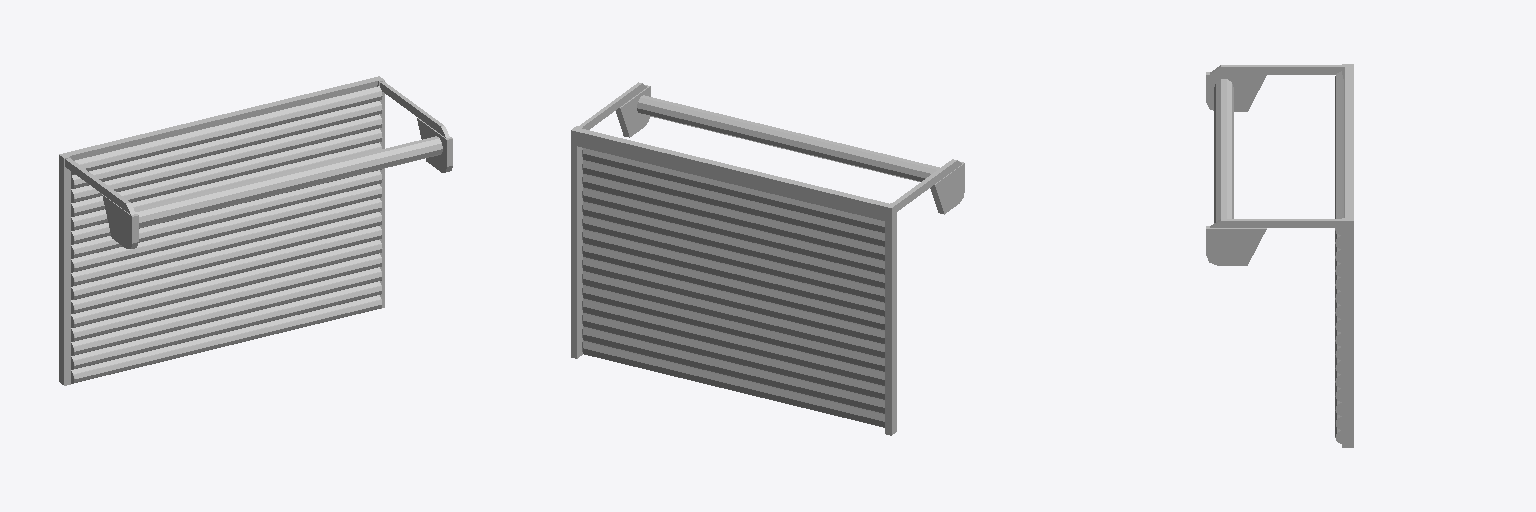
The model's file is roller_shutters3.obj.
The picture shows the model from 3 angles: view 1: azimuth 30°, elevation 25°; view 2: azimuth 150°, elevation 25°; view 3: azimuth 270°, elevation 25°; orthographic projection.
Parts seen in each view (by area): view 1: Cube_037, gartentor_part_015, gartentor_part_004, gartentor_part_002, gartentor_part_007, gartentor_part, gartentor_part_005, gartentor_part_001, gartentor_part_006, gartentor_part_003, gartentor_part_008, gartentor_part_013 (+5 smaller); view 2: Cube_037, gartentor_part_003, gartentor_part_006, gartentor_part_008, gartentor_part_001, gartentor_part_010, gartentor_part_005, gartentor_part_012, gartentor_part, gartentor_part_002, gartentor_part_009, gartentor_part_011 (+4 smaller); view 3: Cube_037, gartentor_part_015.
Boxes of the visible parts, x1=… form: Cube_037: x1=59, y1=76, x2=452, y2=385; gartentor_part_015: x1=71, y1=86, x2=382, y2=175; gartentor_part_004: x1=71, y1=240, x2=382, y2=327; gartentor_part_002: x1=71, y1=267, x2=381, y2=355; gartentor_part_007: x1=71, y1=198, x2=381, y2=286; gartentor_part: x1=71, y1=295, x2=381, y2=383; gartentor_part_005: x1=71, y1=226, x2=381, y2=313; gartentor_part_001: x1=71, y1=281, x2=381, y2=369; gartentor_part_006: x1=71, y1=212, x2=381, y2=299; gartentor_part_003: x1=71, y1=253, x2=381, y2=341; gartentor_part_008: x1=71, y1=184, x2=381, y2=272; gartentor_part_013: x1=71, y1=114, x2=382, y2=202; Cube_037: x1=571, y1=82, x2=964, y2=435; gartentor_part_003: x1=582, y1=298, x2=884, y2=385; gartentor_part_006: x1=582, y1=257, x2=884, y2=343; gartentor_part_008: x1=582, y1=229, x2=884, y2=316; gartentor_part_001: x1=582, y1=326, x2=884, y2=413; gartentor_part_010: x1=582, y1=201, x2=884, y2=288; gartentor_part_005: x1=582, y1=271, x2=884, y2=357; gartentor_part_012: x1=582, y1=174, x2=884, y2=260; gartentor_part: x1=582, y1=340, x2=884, y2=427; gartentor_part_002: x1=582, y1=313, x2=884, y2=399; gartentor_part_009: x1=582, y1=215, x2=884, y2=302; gartentor_part_011: x1=582, y1=187, x2=884, y2=274; Cube_037: x1=1206, y1=64, x2=1353, y2=447; gartentor_part_015: x1=1335, y1=71, x2=1343, y2=235.
Bounding box in the file's own units: 3.8 × 2.57 × 1.51.